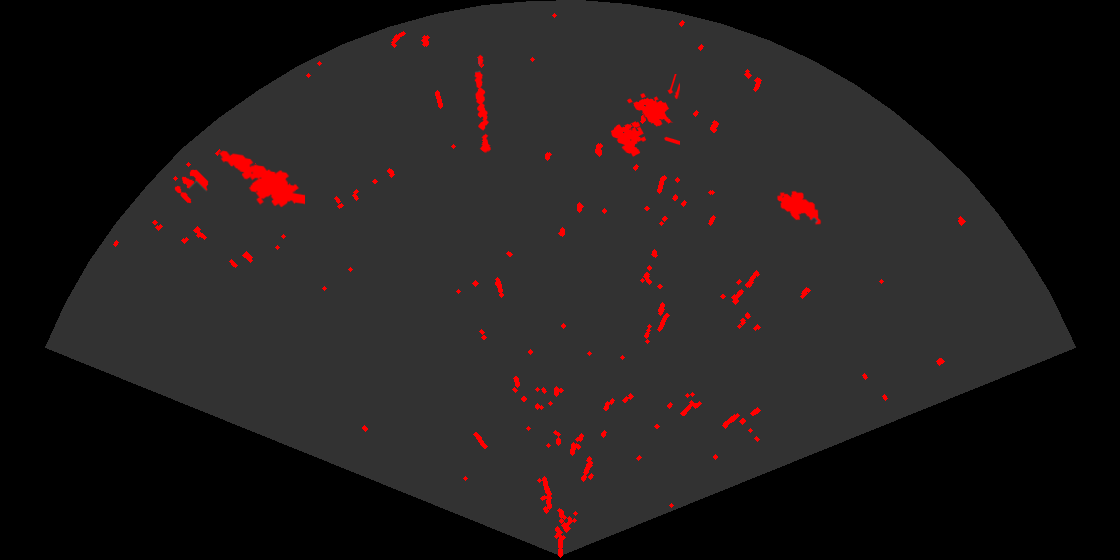AUV: (775, 189, 823, 227)
ball: (173, 168, 210, 205)
cage: (609, 74, 680, 158)
chain: (473, 53, 492, 155)
frogman: (218, 149, 305, 209)
